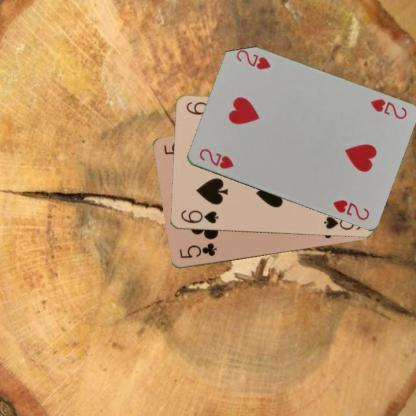2h: (367, 96, 408, 121), (196, 146, 234, 171)
5c: (176, 240, 218, 260)
6s: (178, 207, 220, 225)
